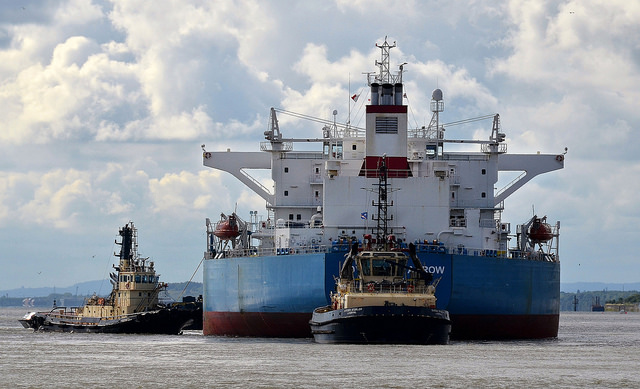tanker: (198, 32, 571, 340)
tug_boat: (308, 175, 450, 347), (31, 224, 188, 336)
